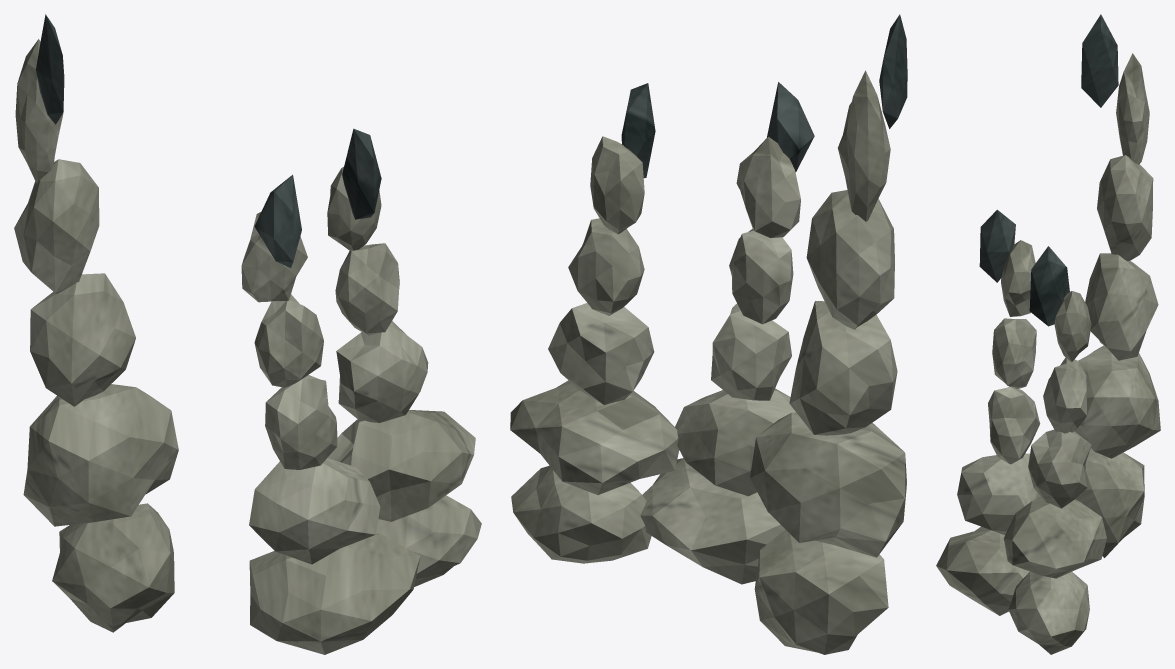
Rendered from 0075_rock_spire_25.glb.
The picture shows the model from 3 angles, left to right: view 1: azimuth 30°, elevation 25°; view 2: azimuth 150°, elevation 25°; view 3: azimuth 270°, elevation 25°; orthographic projection. The views are drawn at different scales.
Parts seen in each view (by area): view 1: stone_light, stone_dark; view 2: stone_light, stone_dark; view 3: stone_light, stone_dark.
Boxes of the visible parts, x1=… form: stone_light: x1=14, y1=39, x2=481, y2=654; stone_dark: x1=36, y1=14, x2=381, y2=267; stone_light: x1=510, y1=70, x2=906, y2=654; stone_dark: x1=621, y1=14, x2=907, y2=178; stone_light: x1=936, y1=53, x2=1160, y2=654; stone_dark: x1=979, y1=14, x2=1118, y2=326.
Bounding box in the file's own units: 2.09 × 3.03 × 1.23.
Materials: 2 (2 with a texture image).
